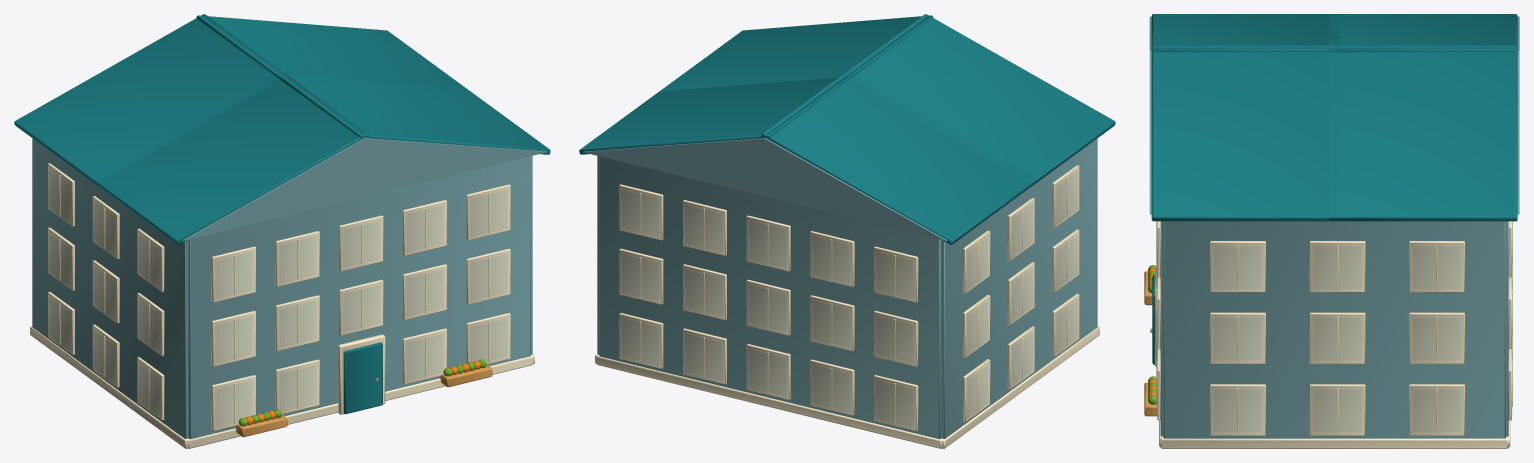
The model's file is project_5.glb.
3 views of the same model, side by side, from view 1: azimuth 30°, elevation 25°; view 2: azimuth 150°, elevation 25°; view 3: azimuth 270°, elevation 25° (orthographic). The views are drawn at different scales.
Parts seen in each view (by area): view 1: wall.013, roof half.014, foundation trim.013, roof half.012, wall.014, blue window.063, foundation trim.014, painted gable.007, blue window.078, door.004, door frame.003, planter.007 (+2 smaller); view 2: wall.012, foundation trim.012, roof half.012, roof half.014, blue window.048, wall.014, foundation trim.014, painted gable.006, blue window.078, wall.015; view 3: wall.015, roof half.012, roof half.014, foundation trim.015, blue window.087, foundation trim.012, foundation trim.013, wall.013, wall.012, painted gable.006, painted gable.007.
Boxes of the visible parts, bbox=[...] form: wall.013: bbox=[188, 156, 530, 439]; roof half.014: bbox=[94, 72, 550, 244]; foundation trim.013: bbox=[188, 184, 533, 448]; roof half.012: bbox=[14, 14, 465, 186]; wall.014: bbox=[32, 138, 188, 438]; blue window.063: bbox=[217, 190, 507, 426]; foundation trim.014: bbox=[30, 163, 188, 448]; painted gable.007: bbox=[183, 138, 546, 240]; blue window.078: bbox=[49, 169, 159, 415]; door.004: bbox=[343, 342, 382, 414]; door frame.003: bbox=[338, 334, 385, 414]; planter.007: bbox=[440, 364, 492, 387]; wall.012: bbox=[599, 156, 941, 439]; foundation trim.012: bbox=[596, 184, 941, 448]; roof half.012: bbox=[579, 71, 1036, 244]; roof half.014: bbox=[659, 14, 1115, 186]; blue window.048: bbox=[622, 190, 912, 426]; wall.014: bbox=[941, 138, 1097, 438]; foundation trim.014: bbox=[941, 165, 1099, 448]; painted gable.006: bbox=[583, 138, 946, 240]; blue window.078: bbox=[968, 171, 1077, 416]; wall.015: bbox=[597, 156, 599, 354]; wall.015: bbox=[1163, 221, 1505, 438]; roof half.012: bbox=[1329, 14, 1517, 221]; roof half.014: bbox=[1151, 14, 1339, 221]; foundation trim.015: bbox=[1160, 241, 1508, 448]; blue window.087: bbox=[1215, 246, 1459, 431]; foundation trim.012: bbox=[1506, 221, 1512, 447]; foundation trim.013: bbox=[1156, 221, 1162, 447]; wall.013: bbox=[1160, 221, 1163, 436]; wall.012: bbox=[1506, 221, 1508, 436]; painted gable.006: bbox=[1517, 16, 1519, 214]; painted gable.007: bbox=[1149, 16, 1151, 214].
Size of the model in its own units: 16.44 by 11.64 by 12.82.
